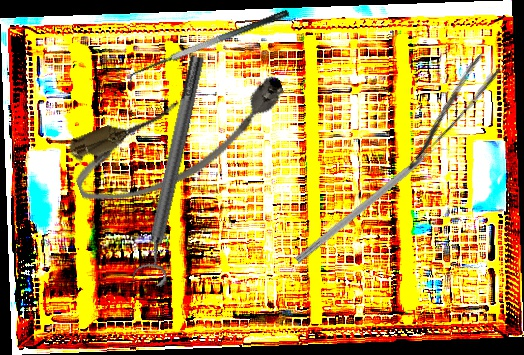Cannula: (61, 62, 301, 216)
Chopper: (294, 138, 453, 272)
Dressing Forceps: (390, 51, 504, 173)
Fixation Ring: (127, 53, 219, 288)
Spatula Surgical: (122, 7, 295, 90)
